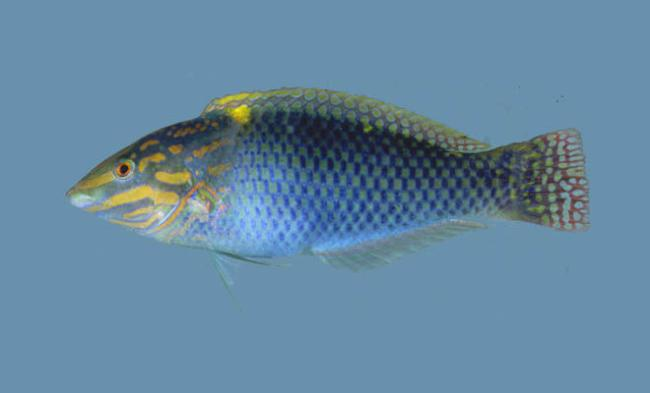fish: (65, 86, 592, 290)
